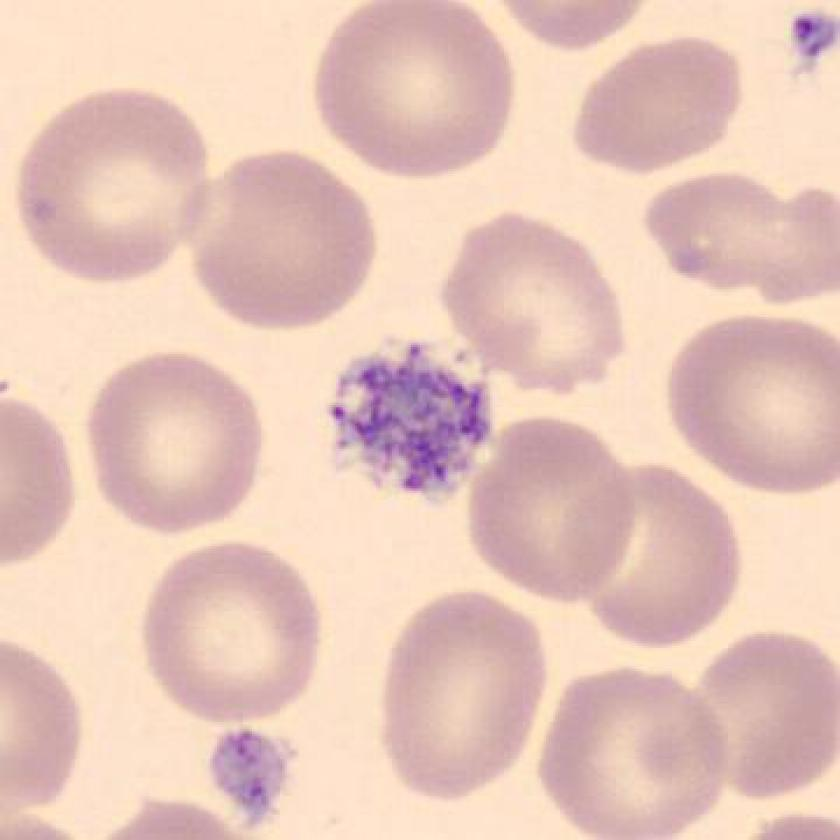platelets: (323, 332, 496, 512), (209, 728, 304, 837), (783, 1, 839, 89)
